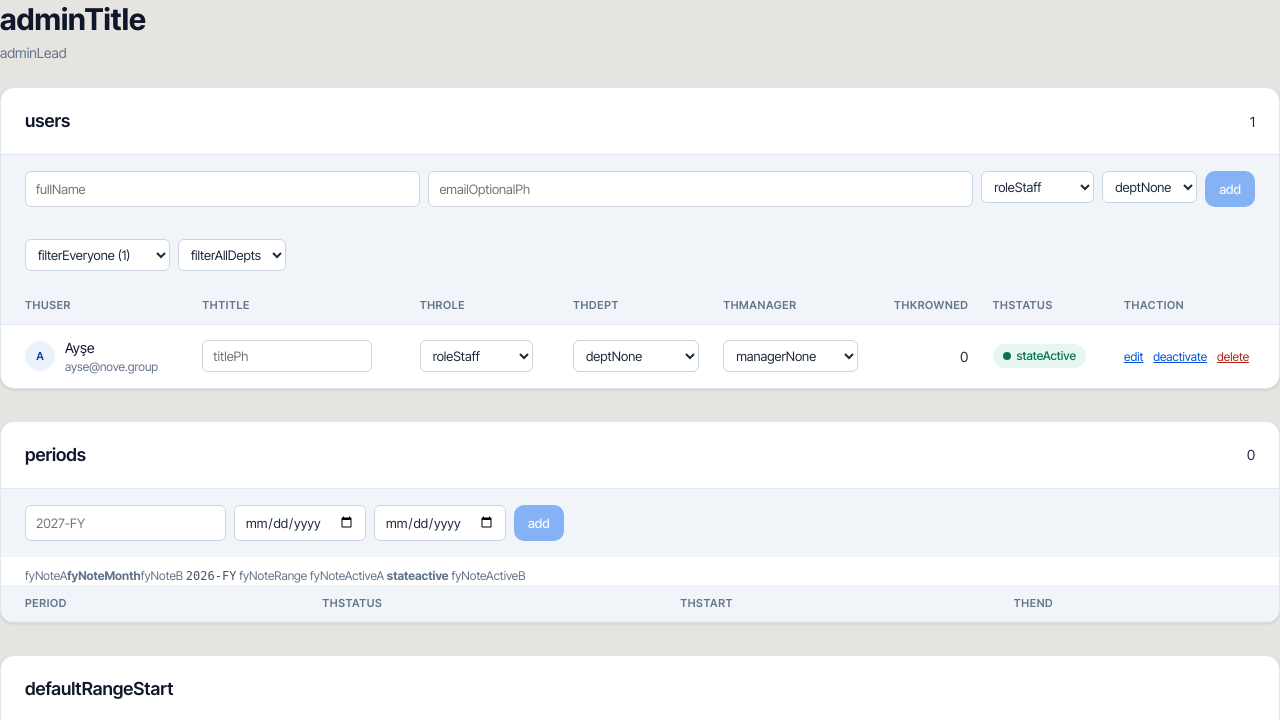
Test: each row has Edit instead of the old Password button, and it opens the panel for that person
Click the button "edit" at (1134, 356), box [1124,346,1143,366]
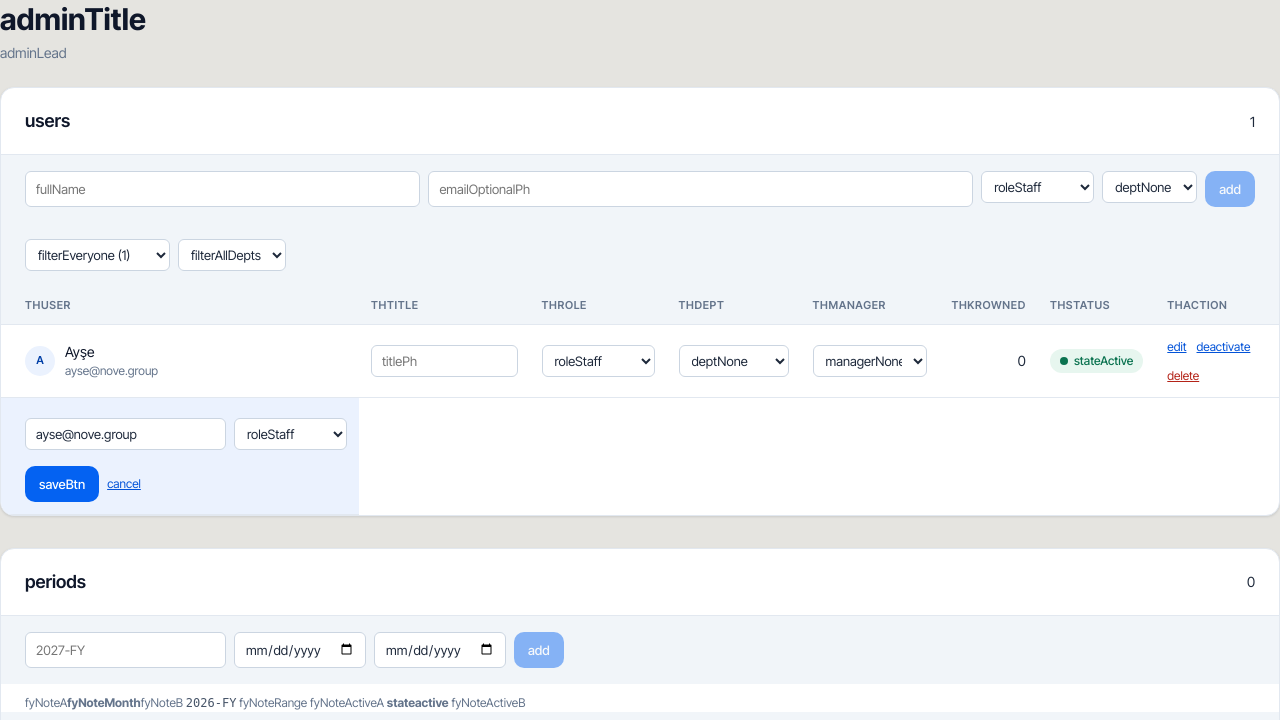
Expected: the field named "email" holds "ayse@nove.group", [25,418,226,450]
